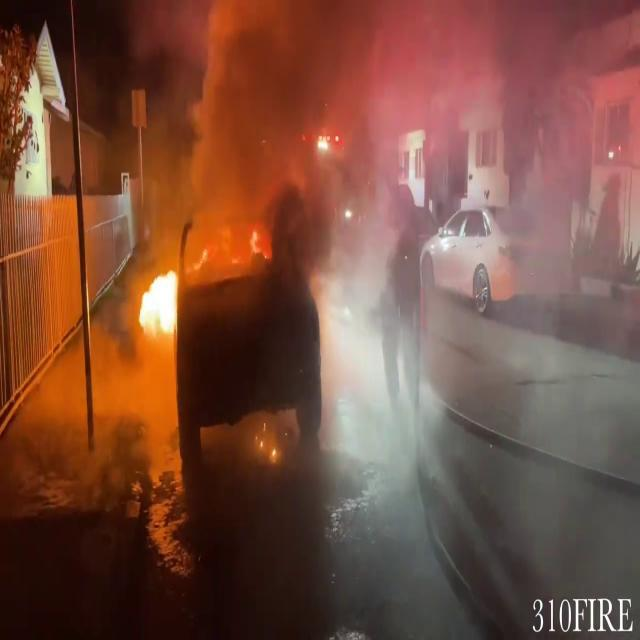Fire: (134, 262, 184, 348)
Smoke: (134, 0, 468, 262)
